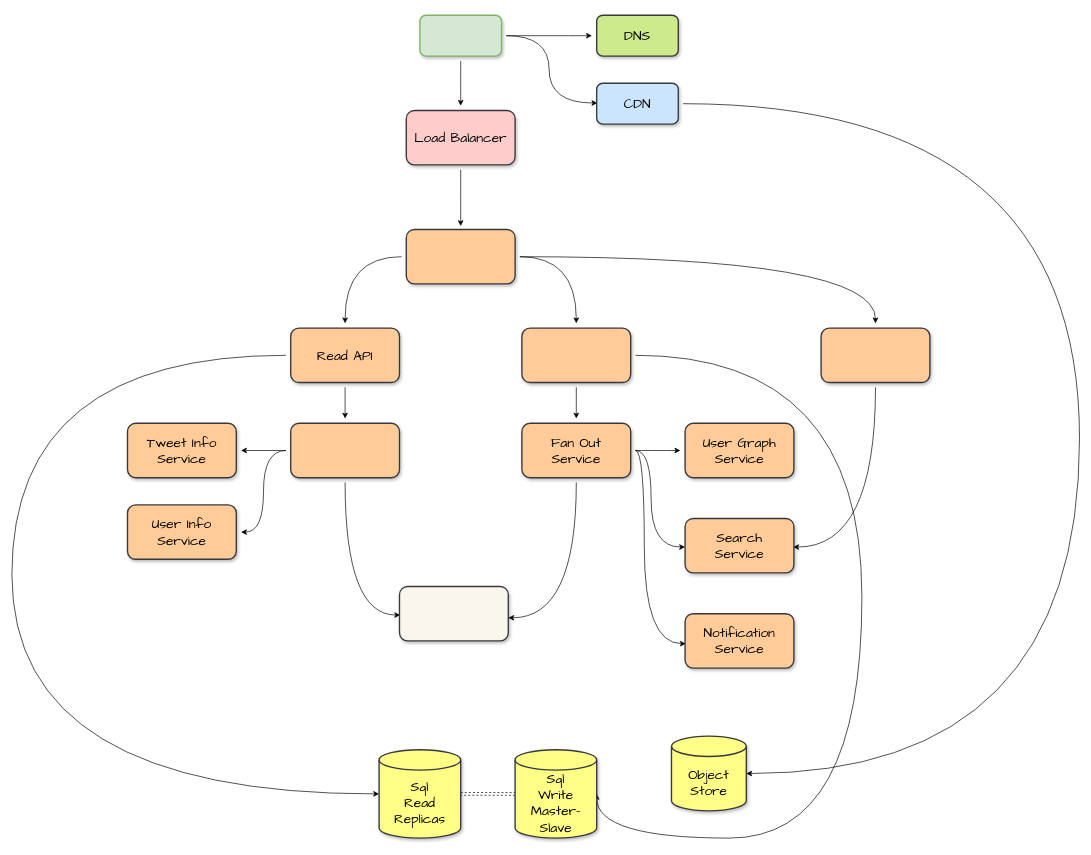
This 1091x855 diagram has some shape labels left out. Each missing label, with the centre of its shape:
Client: point (461, 36)
Memory Cache: point (454, 614)
Search API: point (875, 356)
Timeline servie: point (345, 451)
Web Server: point (461, 257)
Write API: point (576, 356)
